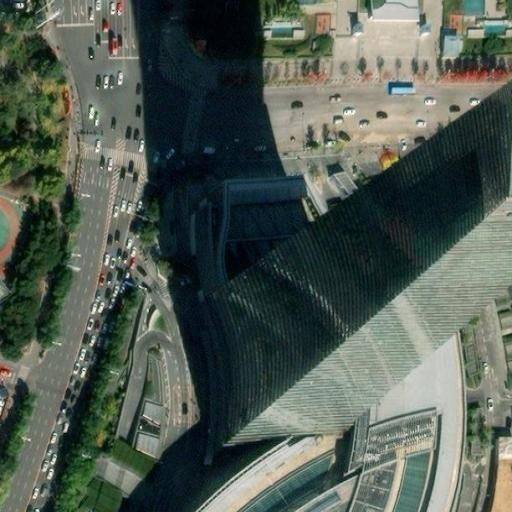building: (218, 213, 339, 331), (219, 316, 327, 415), (490, 434, 512, 512), (480, 18, 511, 36), (440, 32, 460, 56)
